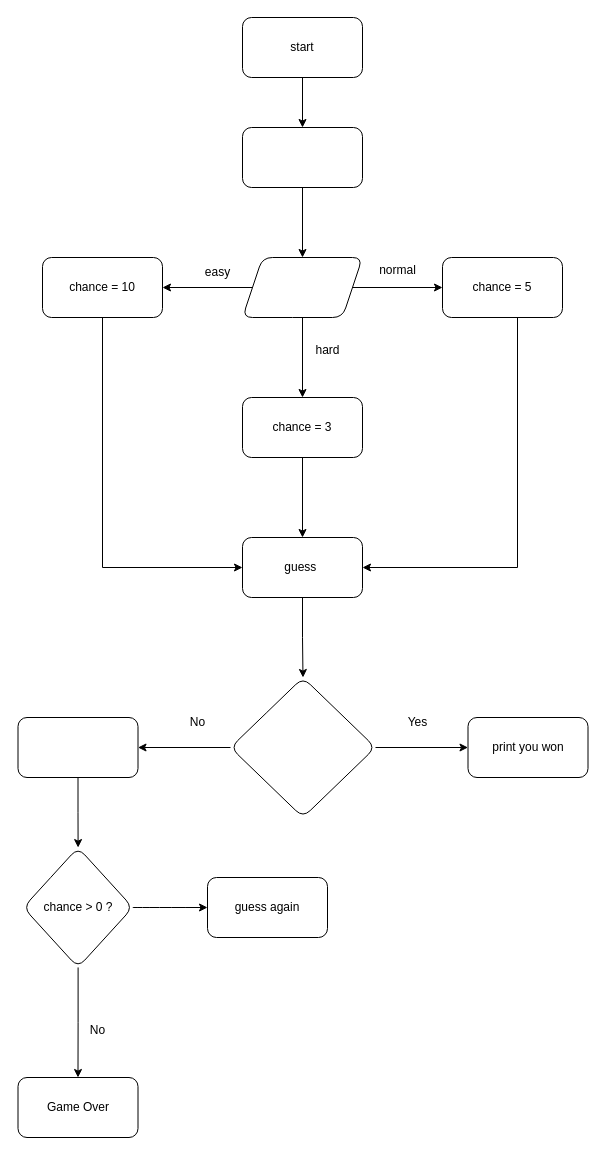
Image size: 605x1155. Some labels were removed from this diagram. Here are the shapes that lost their labels. From the top down, the centre of each, then its label:
[302,157]: choose random number 1-100
[302,287]: choose difficulty
[77,747]: try again chance - 1
[303,747]: random_num == guess?
